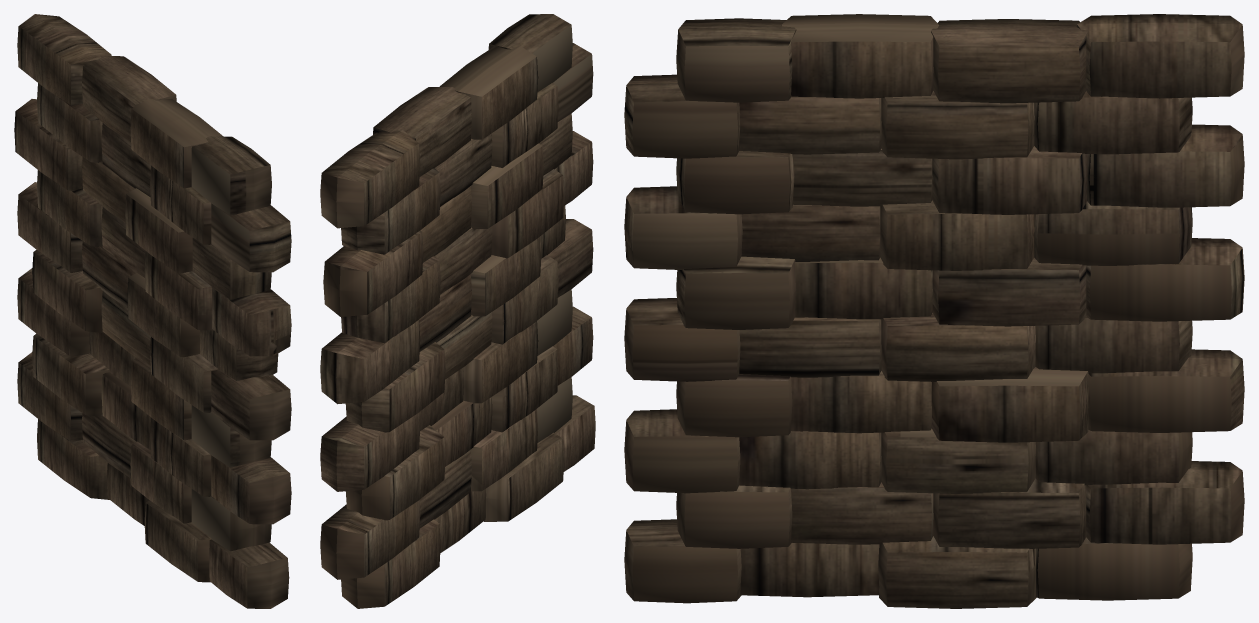
The model's file is ParedTill_S.fbx.
3 renders of one model, left to right at view 1: azimuth 30°, elevation 25°; view 2: azimuth 150°, elevation 25°; view 3: azimuth 270°, elevation 25°, orthographic. The views are drawn at different scales.
Visible parts, largest first — view 1: Pared_Piedra007; view 2: Pared_Piedra007; view 3: Pared_Piedra007.
Boxes of the visible parts, <box> form: Pared_Piedra007: <box>14,14,291,608</box>; Pared_Piedra007: <box>320,14,595,608</box>; Pared_Piedra007: <box>624,14,1244,608</box>.
Size of the model in its own units: 71.41 by 444 by 438.
